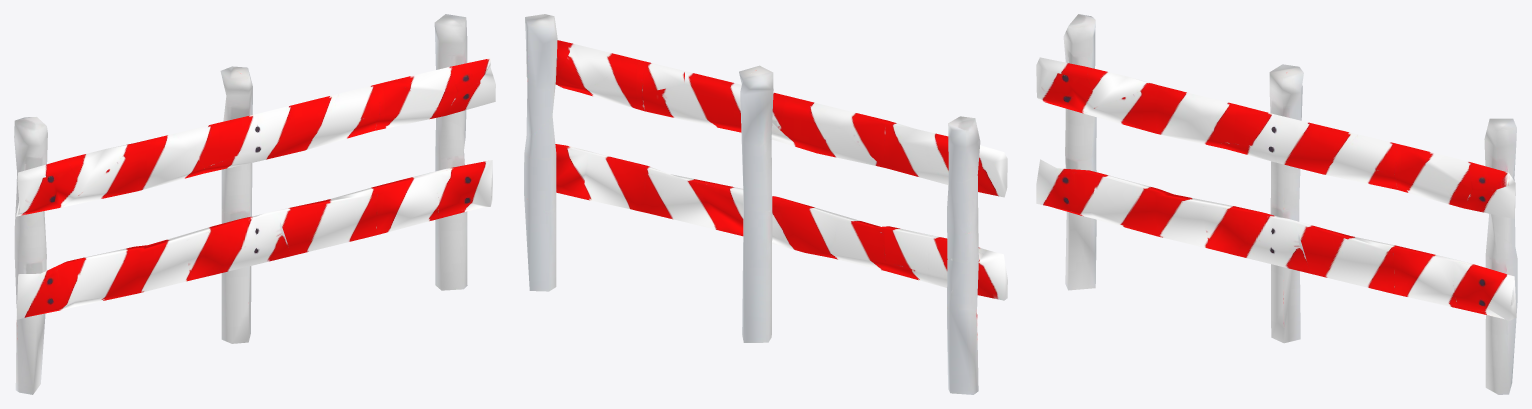
Rendered from barrier.glb.
3 views of the same model, side by side, from view 1: azimuth 30°, elevation 25°; view 2: azimuth 150°, elevation 25°; view 3: azimuth 330°, elevation 25° (orthographic).
Bounding box in the file's own units: 1.9 × 1.01 × 0.1869.
1 material, 1 textured.
